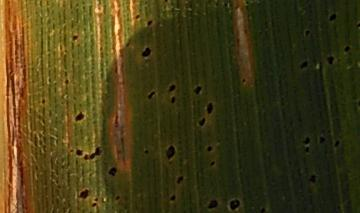tarspot: (83, 146, 102, 160), (227, 198, 243, 213), (165, 143, 176, 161), (206, 198, 219, 211), (140, 46, 152, 59), (107, 165, 118, 179), (77, 188, 90, 199), (191, 85, 204, 96), (204, 101, 215, 114), (307, 172, 319, 183), (74, 111, 85, 122), (166, 83, 177, 94), (175, 174, 185, 186), (146, 90, 156, 101), (197, 117, 207, 128), (299, 59, 309, 70), (327, 12, 338, 22), (325, 55, 335, 66), (301, 135, 310, 146), (168, 193, 177, 203), (74, 148, 83, 157), (342, 45, 351, 54), (332, 139, 341, 148), (169, 95, 177, 105), (318, 135, 326, 145), (71, 33, 79, 42), (303, 28, 311, 37), (146, 19, 154, 27), (90, 201, 98, 209), (113, 194, 122, 201), (134, 13, 141, 22), (303, 145, 310, 153), (63, 78, 70, 85), (206, 145, 213, 152), (142, 148, 149, 155), (259, 206, 266, 213), (40, 98, 46, 105), (209, 160, 216, 166), (93, 196, 99, 203), (335, 204, 342, 210), (223, 2, 229, 9), (241, 77, 246, 83), (355, 22, 360, 28), (245, 1, 250, 6), (214, 2, 219, 7), (162, 1, 168, 3)
